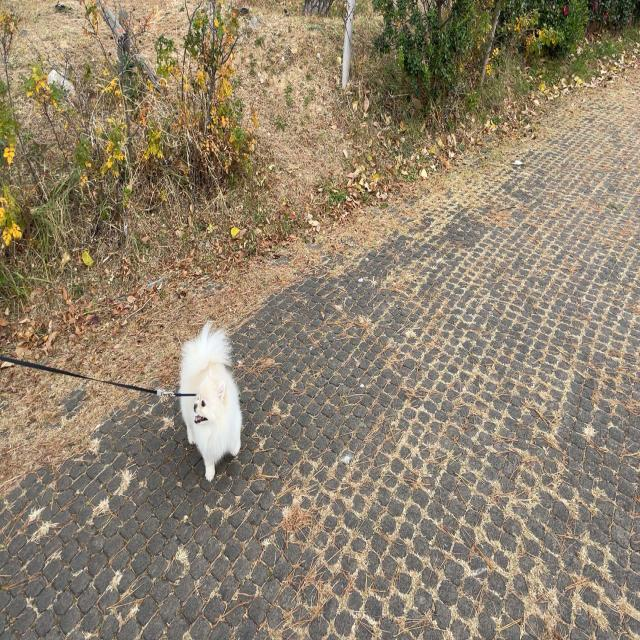Dog: (180, 322, 243, 482)
